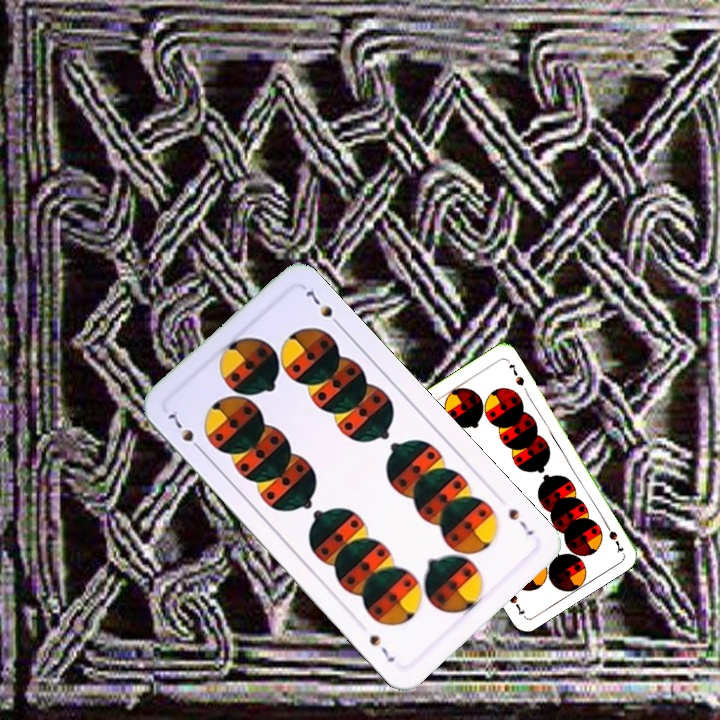S7: (164, 406, 206, 455), (504, 504, 537, 539), (600, 517, 627, 554)
